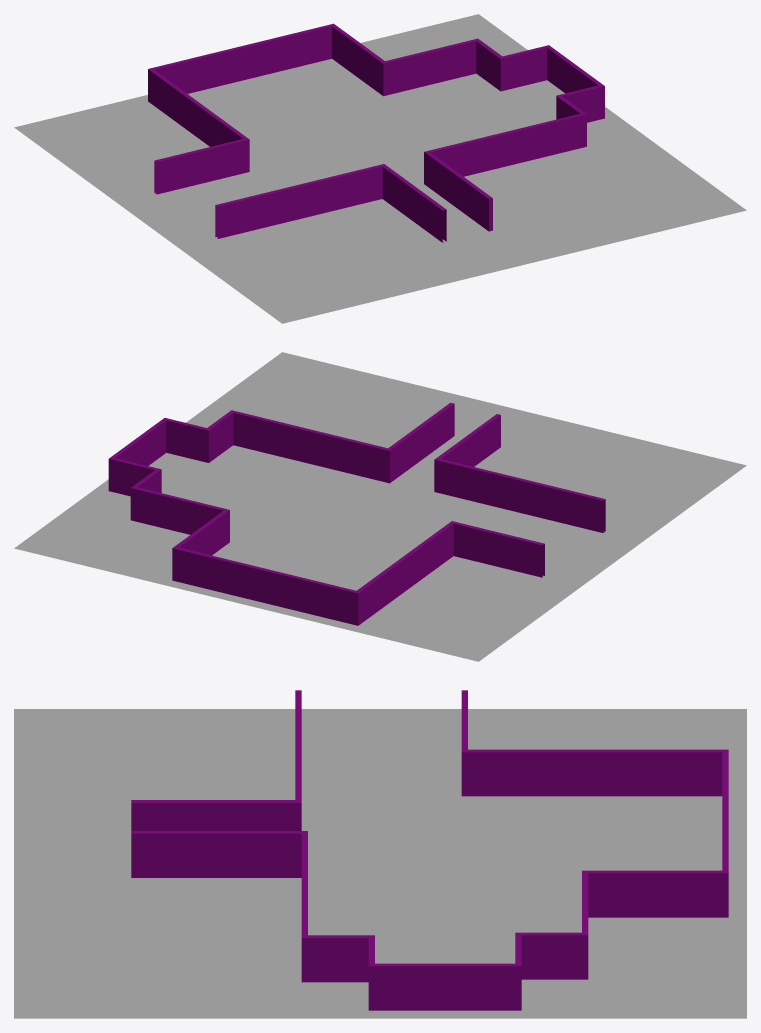
The model's file is WW_ArcadeArea_Env_02.fbx.
3 renders of one model, top to bottom at view 1: azimuth 30°, elevation 25°; view 2: azimuth 150°, elevation 25°; view 3: azimuth 270°, elevation 25°, orthographic. The views are drawn at different scales.
Parts seen in each view (by area): view 1: NewGround, ArcadeWall10m1, ArcadeWall10m2, ArcadeWall10m9, ArcadeWall10m7, ArcadeWall10m5, ArcadeWall10m3, ArcadeWall10m4, ArcadeWall10m10, ArcadeWall10m6, ArcadeWall10m12, ArcadeWall5m2 (+5 smaller); view 2: NewGround, ArcadeWall10m1, ArcadeWall10m3, ArcadeWall10m5, ArcadeWall10m2, ArcadeWall10m9, ArcadeWall10m4, ArcadeWall10m7, ArcadeWall10m12, ArcadeWall10m10, ArcadeWall5m3, ArcadeWall10m8 (+5 smaller); view 3: NewGround, ArcadeWall10m3, ArcadeWall10m10, ArcadeWall10m8, ArcadeWall10m6, ArcadeWall10m14, ArcadeWall5m4, ArcadeWall5m1, ArcadeWall10m11, ArcadeWall10m1, ArcadeWall10m5, ArcadeWall10m2 (+1 smaller).
Part boxes in pixels (x1,y1,x2,y2): NewGround: (14, 14, 746, 323); ArcadeWall10m1: (215, 164, 385, 238); ArcadeWall10m2: (154, 138, 249, 194); ArcadeWall10m9: (492, 113, 586, 169); ArcadeWall10m7: (385, 39, 478, 95); ArcadeWall10m5: (241, 23, 335, 80); ArcadeWall10m3: (148, 68, 246, 146); ArcadeWall10m4: (149, 46, 243, 93); ArcadeWall10m10: (426, 152, 492, 231); ArcadeWall10m6: (332, 25, 387, 96); ArcadeWall10m12: (424, 135, 493, 185); ArcadeWall5m2: (503, 45, 550, 90); NewGround: (14, 352, 746, 661); ArcadeWall10m1: (434, 458, 605, 532); ArcadeWall10m3: (354, 522, 453, 625); ArcadeWall10m5: (172, 546, 267, 602); ArcadeWall10m2: (450, 521, 544, 577); ArcadeWall10m9: (229, 410, 324, 466); ArcadeWall10m4: (265, 569, 358, 624); ArcadeWall10m7: (130, 487, 225, 534); ArcadeWall10m12: (322, 433, 392, 483); ArcadeWall10m10: (388, 402, 454, 481); ArcadeWall5m3: (165, 419, 208, 462); ArcadeWall10m8: (111, 418, 168, 465); NewGround: (14, 709, 746, 1018); ArcadeWall10m3: (468, 749, 728, 796); ArcadeWall10m10: (131, 831, 301, 877); ArcadeWall10m8: (368, 963, 515, 1010); ArcadeWall10m6: (582, 870, 722, 917); ArcadeWall10m14: (190, 800, 296, 830); ArcadeWall5m4: (301, 935, 374, 982); ArcadeWall5m1: (515, 932, 588, 979); ArcadeWall10m11: (131, 800, 189, 830); ArcadeWall10m1: (295, 690, 301, 830); ArcadeWall10m5: (722, 811, 728, 917); ArcadeWall10m2: (461, 690, 467, 796).
Bounding box in the file's own units: 5000 × 333 × 5000.
